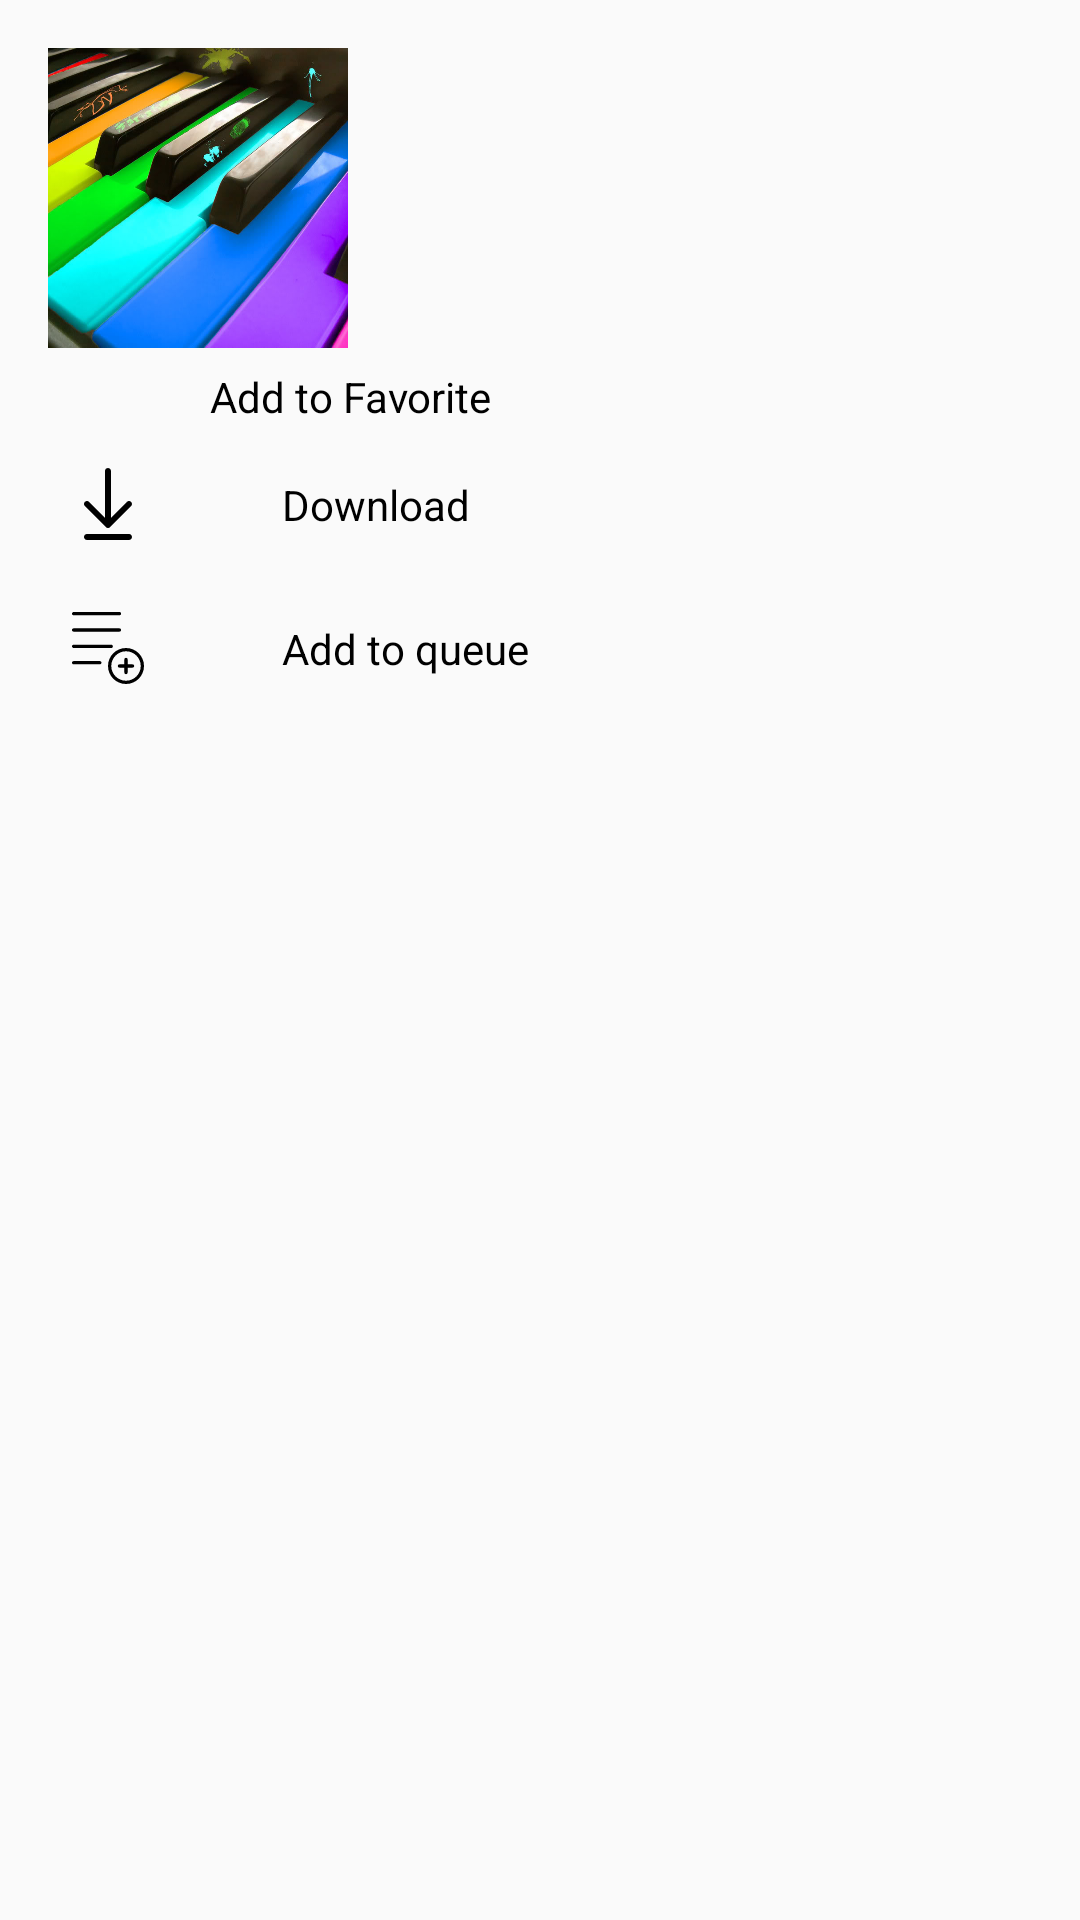

Icons on this 1080w x 1920h Android screen, each with its box as (x1, y1, x2, y2):
add playing: (72, 612, 144, 684)
